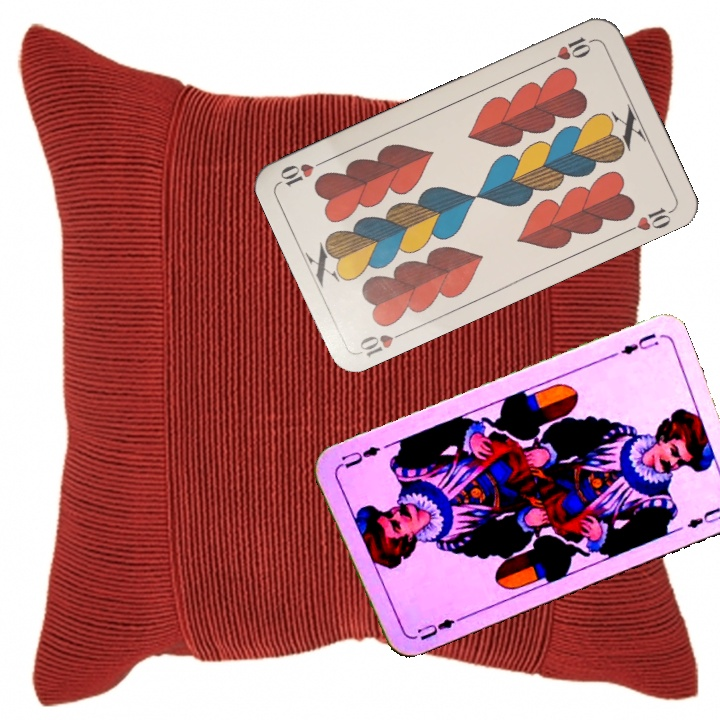EU: (616, 329, 662, 358), (413, 614, 457, 643)
H10: (541, 33, 597, 66), (355, 326, 411, 359)
